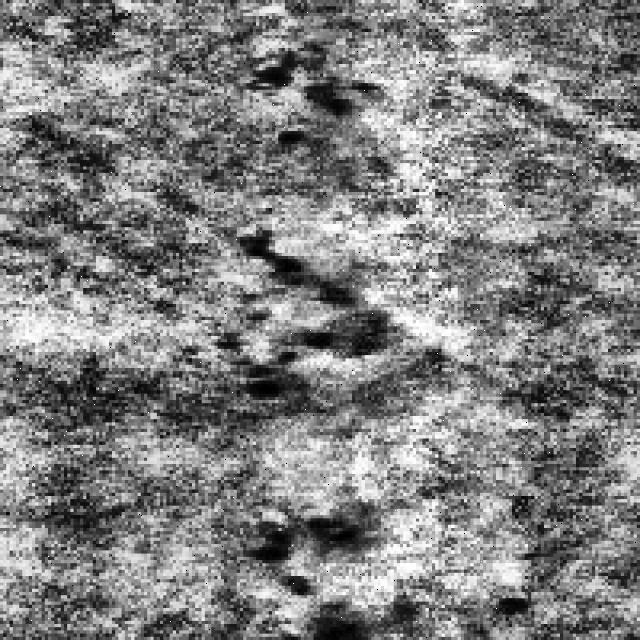Crazing: (218, 208, 384, 406), (250, 480, 378, 637), (256, 16, 397, 154)
